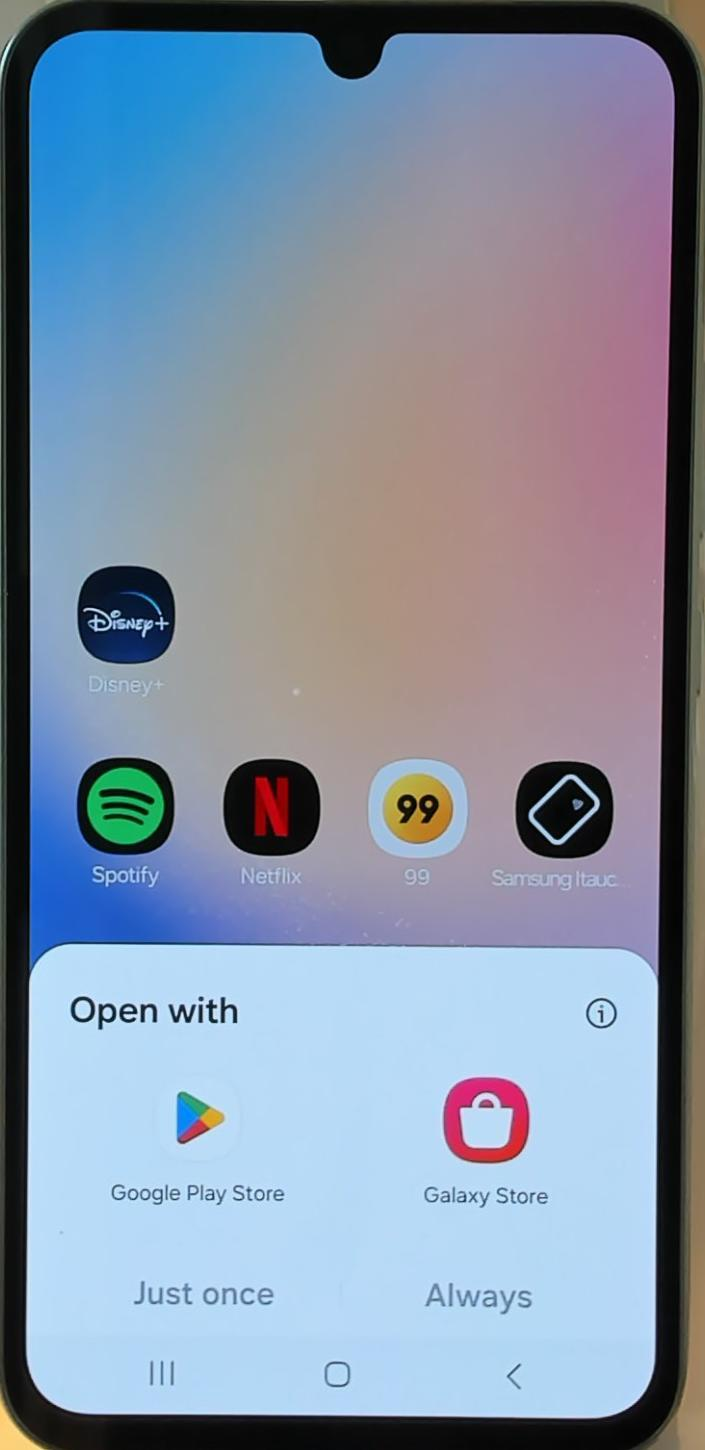CommunBotton: (106, 1062, 298, 1212), (414, 1050, 558, 1214), (500, 748, 628, 894), (68, 740, 178, 894), (66, 558, 182, 698), (216, 748, 328, 890), (366, 752, 474, 890), (114, 1264, 284, 1328), (418, 1270, 540, 1322), (126, 1344, 198, 1400), (314, 1342, 356, 1396), (496, 1344, 532, 1400)
